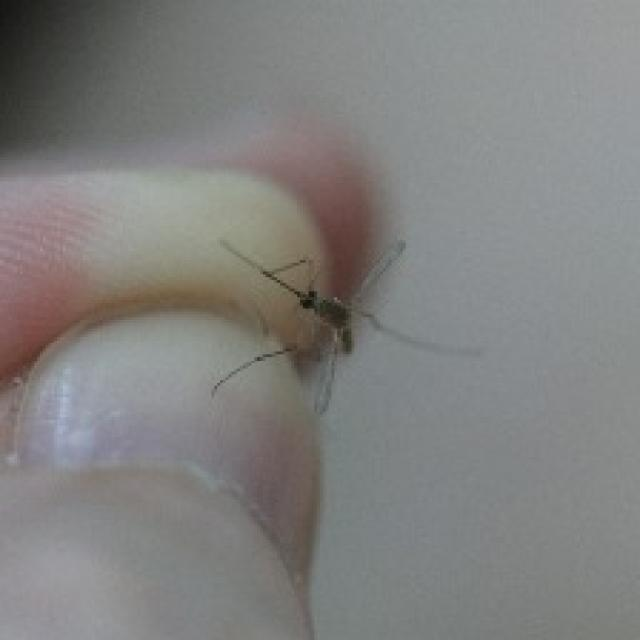culex: (208, 235, 483, 414)
